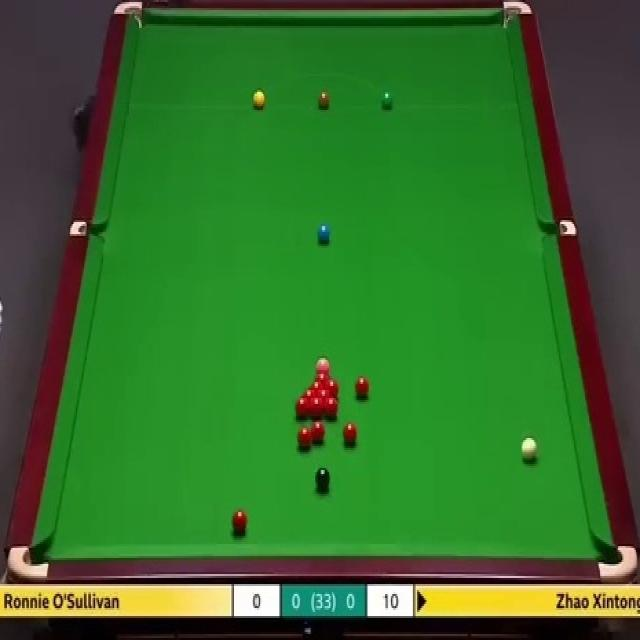pocket: (597, 542, 637, 583), (6, 542, 51, 578), (111, 0, 145, 34), (499, 0, 532, 32), (540, 218, 576, 237), (70, 223, 103, 239)
